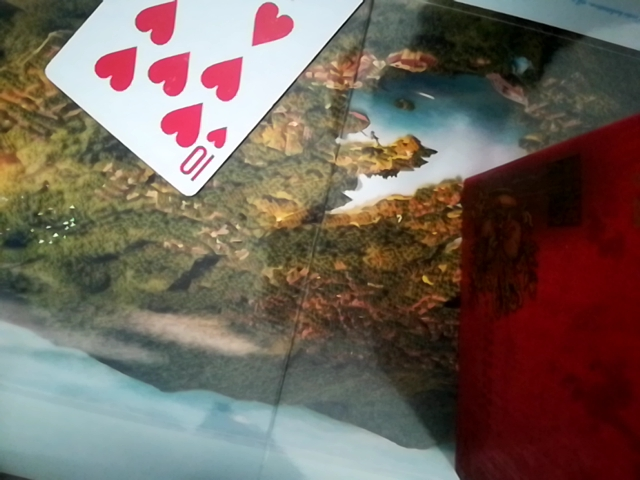hx 10: (37, 0, 379, 204)
